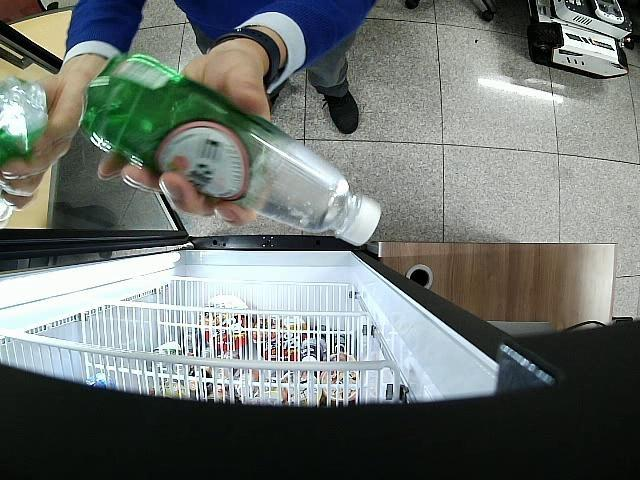18_trevi: (82, 56, 384, 248), (0, 75, 48, 222)
